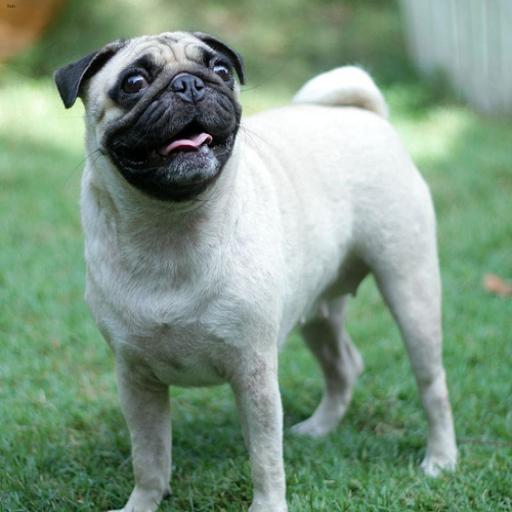dog_face: (50, 25, 247, 199)
